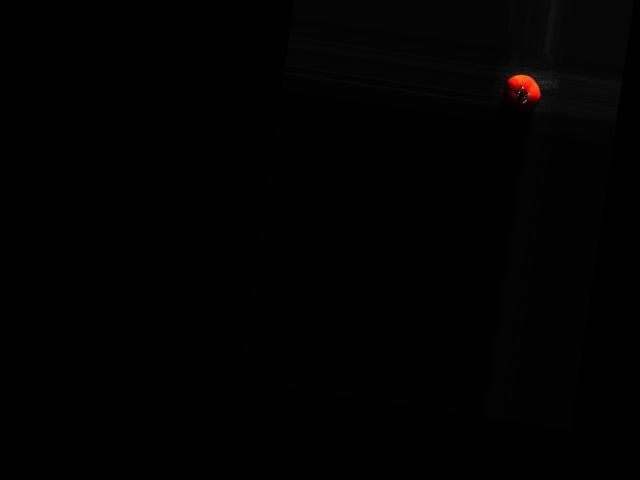tomato: (501, 72, 542, 114)
